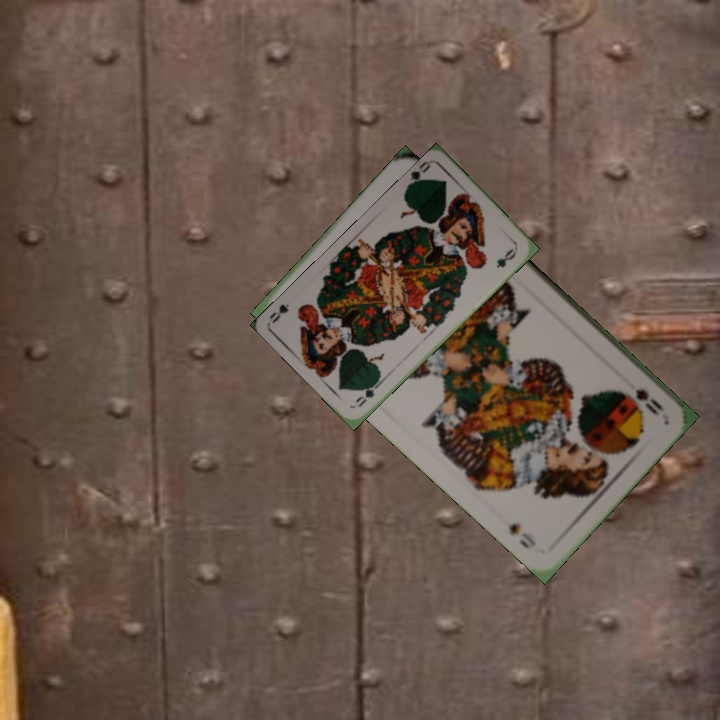GO: (351, 377, 384, 410), (402, 157, 433, 192)
SO: (631, 385, 666, 419)
